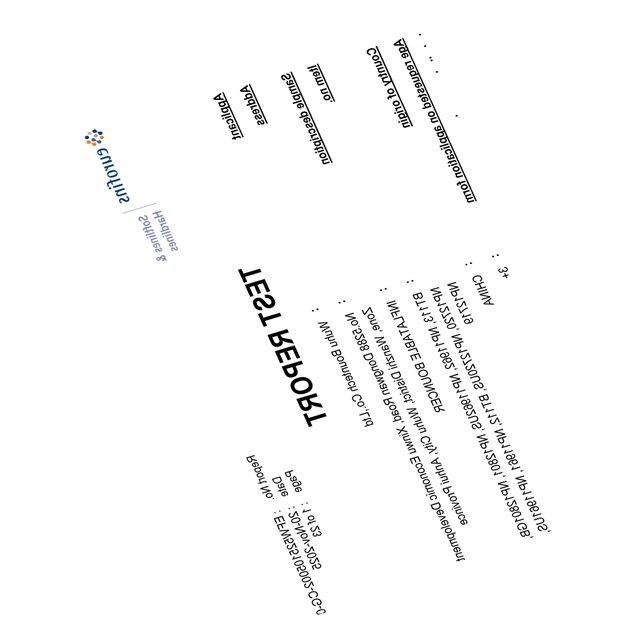eurofins: (76, 122, 134, 212)
